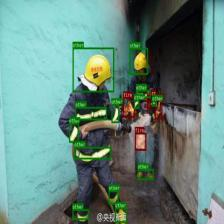fire: (123, 97, 135, 117), (135, 132, 146, 150), (155, 99, 162, 119), (146, 95, 150, 109)
